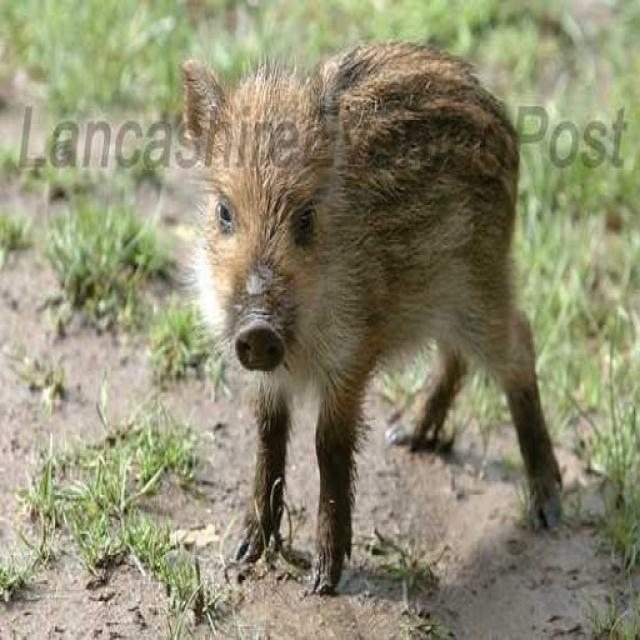pig: (172, 37, 582, 543)
